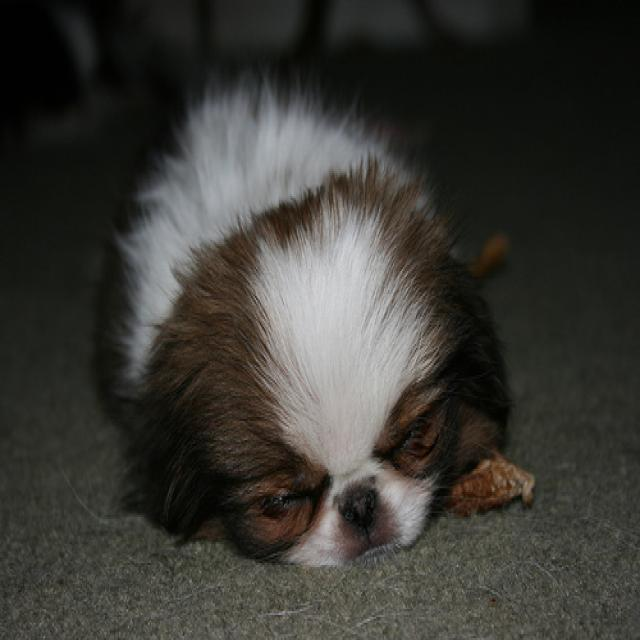dog-japanese_chin: (82, 54, 521, 592)
